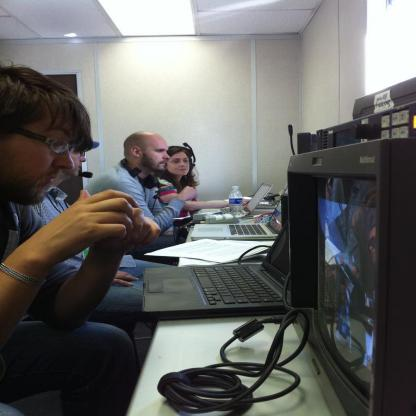board: (143, 228, 295, 319), (193, 188, 289, 240), (222, 184, 273, 215)
